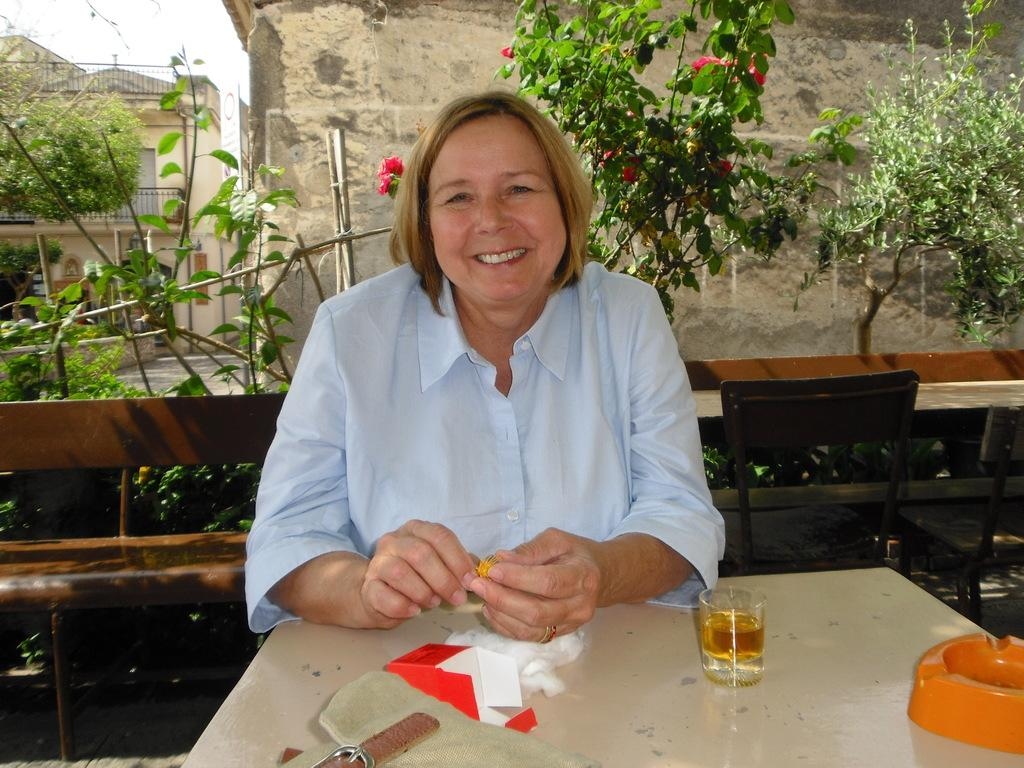Chair: (705, 369, 922, 581)
